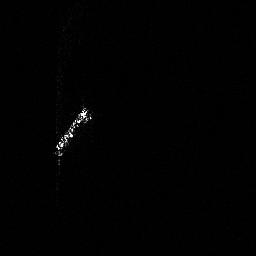ship: (52, 105, 92, 165)
